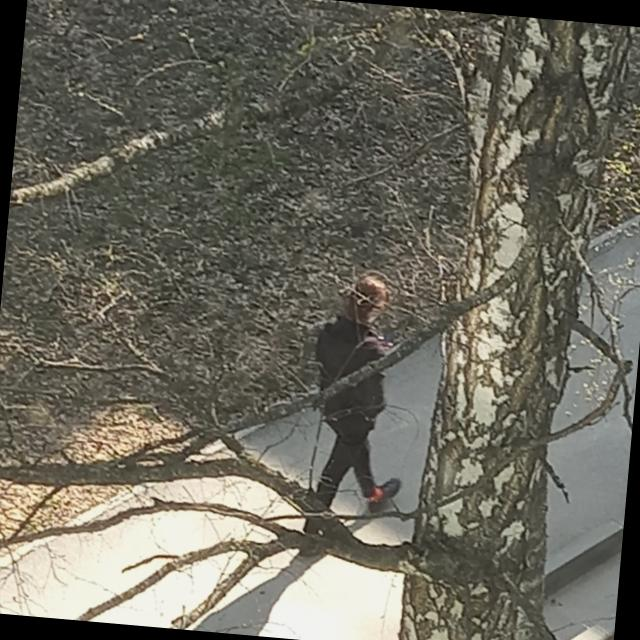person: (300, 266, 418, 526)
